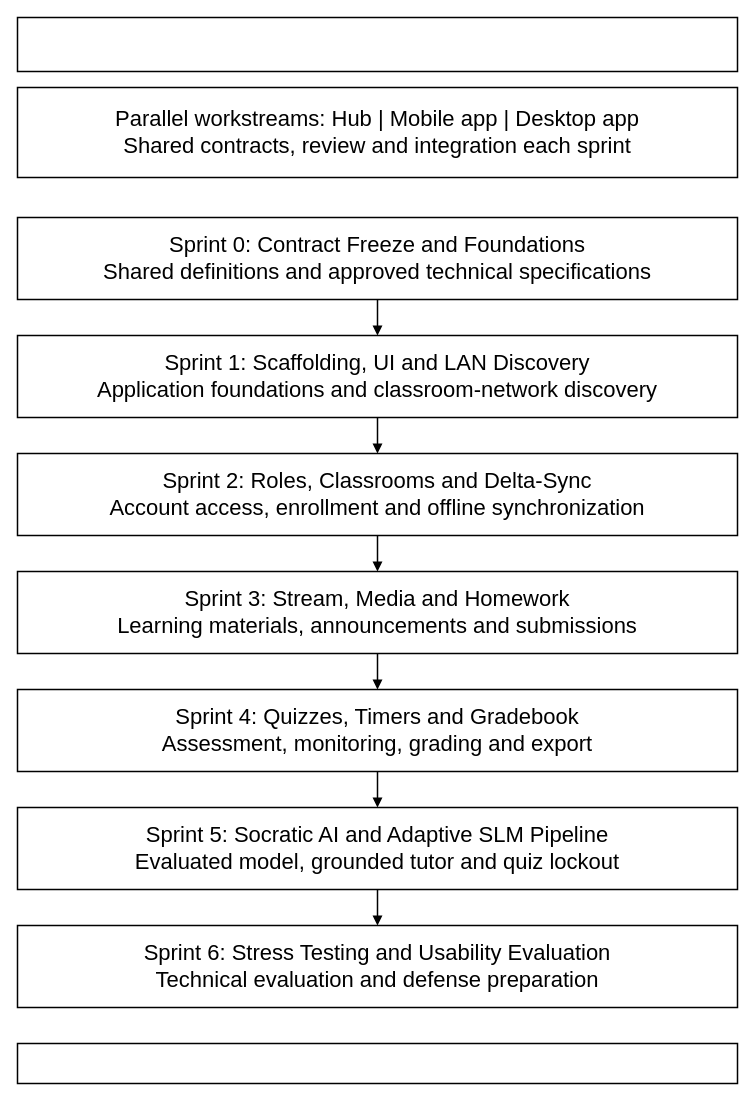
Image size: 756x1102. Some labels were removed from this diagram. Each missing label, with the centre of its shape:
"Agile (Scrum-based) iterative development" belongs at [377,44].
"Integration findings inform the next iteration." belongs at [377,1063].
